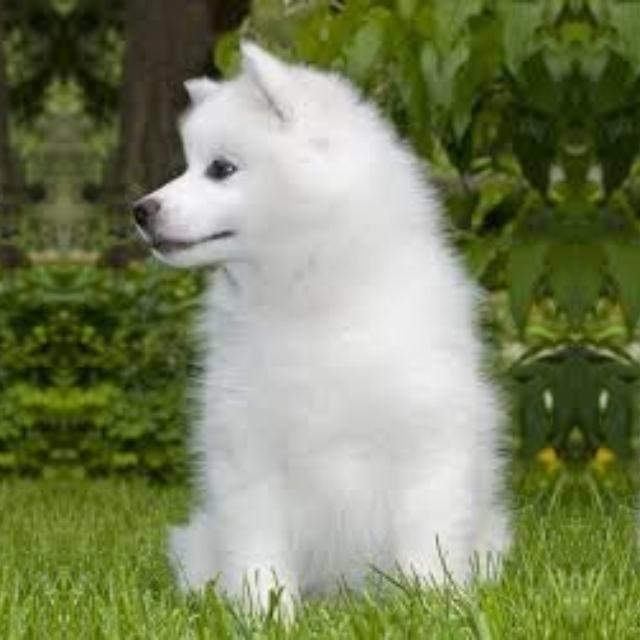dog: (128, 67, 526, 605), (624, 67, 640, 605)
